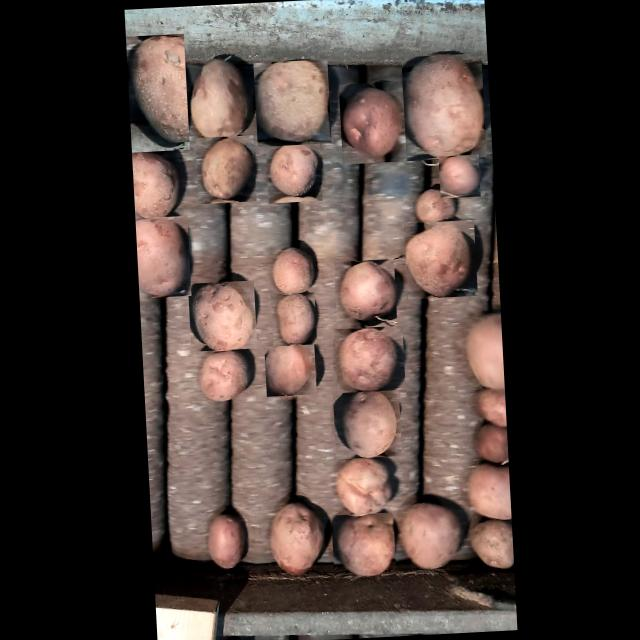Defected potato: (400, 54, 486, 162), (333, 259, 396, 330)
Diseased-fungal potato: (125, 34, 189, 152), (252, 59, 330, 147), (403, 220, 477, 300), (263, 489, 324, 582), (338, 82, 406, 165), (397, 495, 466, 572), (190, 54, 250, 142), (187, 280, 256, 352), (332, 390, 401, 459), (334, 326, 404, 393), (134, 215, 190, 298), (330, 512, 396, 582), (194, 136, 256, 204), (332, 456, 398, 518), (130, 148, 183, 222), (264, 138, 322, 204), (194, 351, 256, 403), (263, 344, 316, 397), (202, 510, 245, 574), (270, 292, 316, 346), (269, 242, 314, 295), (411, 185, 461, 227), (438, 154, 480, 198)
